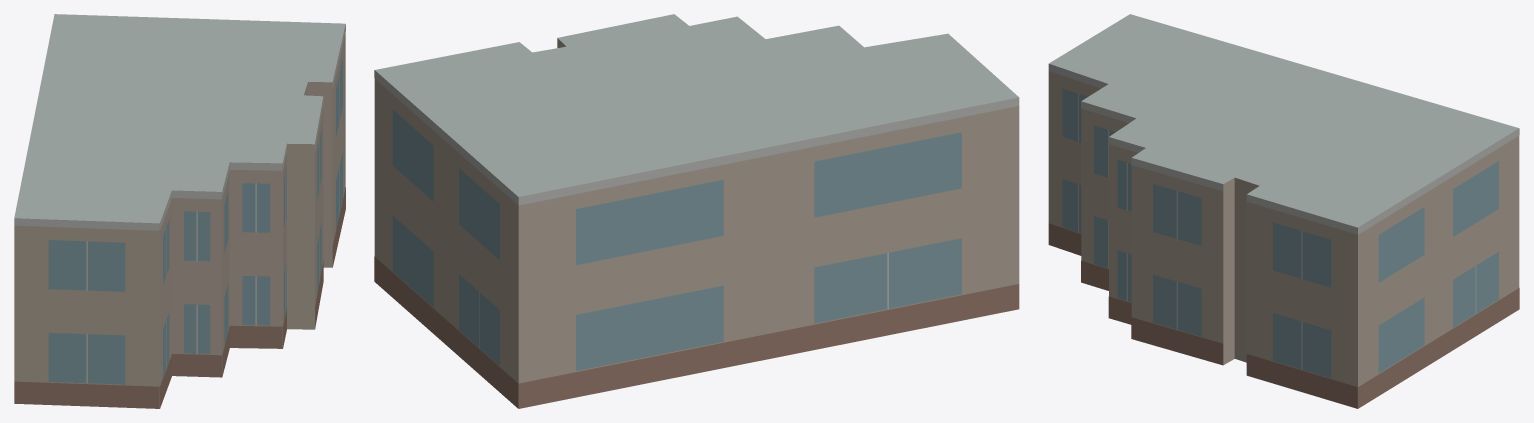
File: survey-upis-32721437.glb
The picture shows the model from 3 angles, left to right: view 1: azimuth 30°, elevation 25°; view 2: azimuth 150°, elevation 25°; view 3: azimuth 270°, elevation 25°; orthographic projection. The views are drawn at different scales.
Parts seen in each view (by area): view 1: survey-upis-32721437.tmp; view 2: survey-upis-32721437.tmp; view 3: survey-upis-32721437.tmp.
Boxes of the visible parts, x1=… form: survey-upis-32721437.tmp: x1=14, y1=14, x2=345, y2=408; survey-upis-32721437.tmp: x1=374, y1=14, x2=1019, y2=408; survey-upis-32721437.tmp: x1=1048, y1=14, x2=1519, y2=408.
Bounding box in the file's own units: 15.43 × 6.1 × 14.37.
